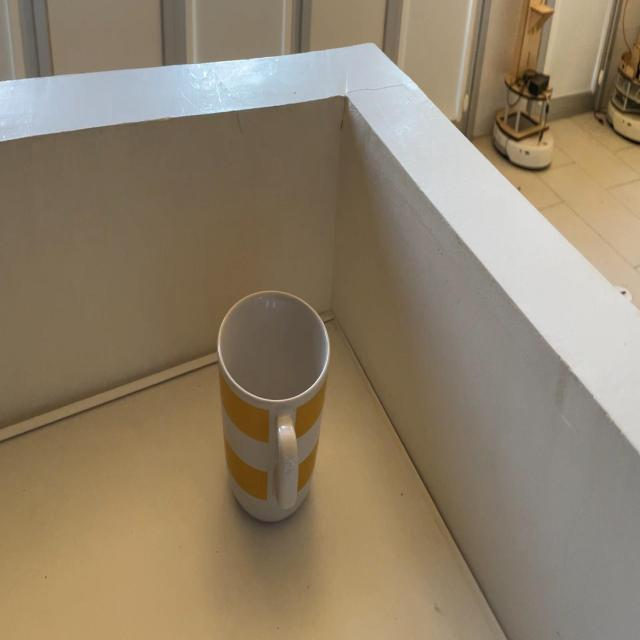cup: (216, 287, 333, 524)
